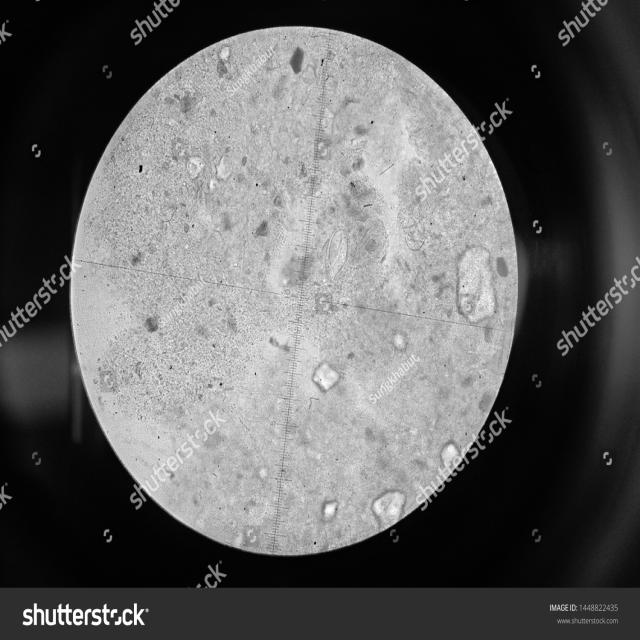Enterobius Vermicularis: (324, 226, 352, 280)
